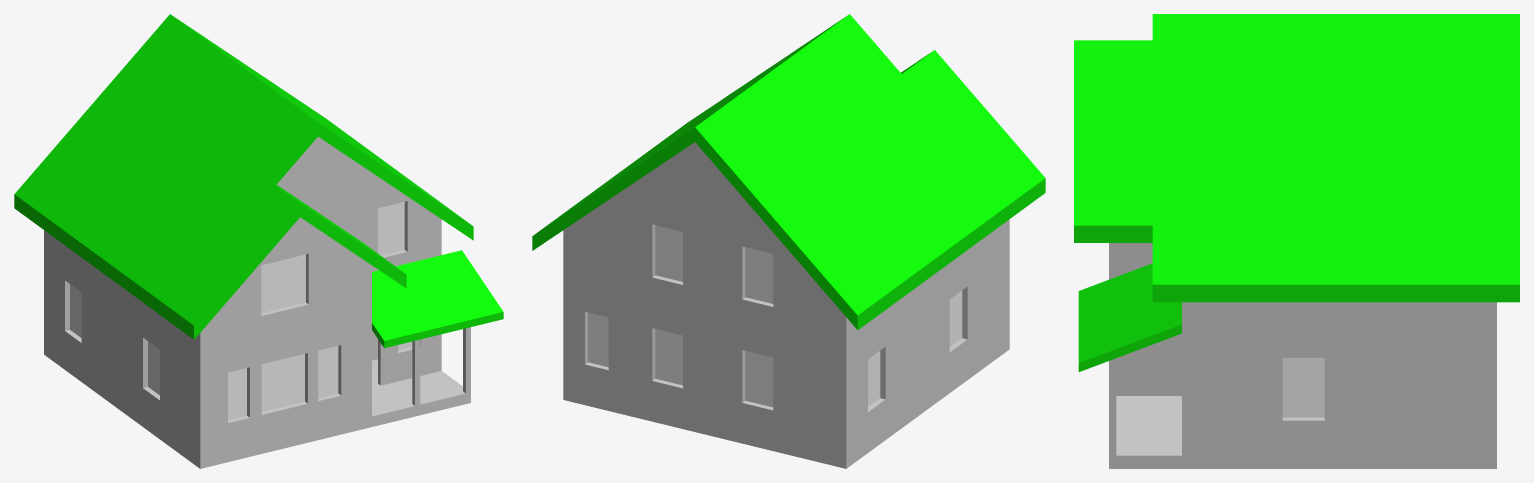
The model's file is interface1.gltf.
3 views of the same model, side by side, from view 1: azimuth 30°, elevation 25°; view 2: azimuth 150°, elevation 25°; view 3: azimuth 270°, elevation 25° (orthographic). The views are drawn at different scales.
Parts seen in each view (by area): view 1: Box019.001, etag1.001, Plane.006; view 2: etag1.001, Box019.001, Plane.006; view 3: Box019.001, etag1.001, Plane.006.
Part boxes in pixels (box(x1,y1,x2,y2)): Box019.001: box(14, 14, 503, 348); etag1.001: box(44, 136, 470, 468); Plane.006: box(70, 202, 412, 420); etag1.001: box(563, 142, 1009, 468); Box019.001: box(532, 14, 1045, 329); Plane.006: box(588, 225, 962, 407); Box019.001: box(1074, 14, 1519, 371); etag1.001: box(1109, 243, 1496, 468); Plane.006: box(1282, 358, 1324, 417).
Size of the model in its own units: 0.9505 by 0.8775 by 0.9505.
